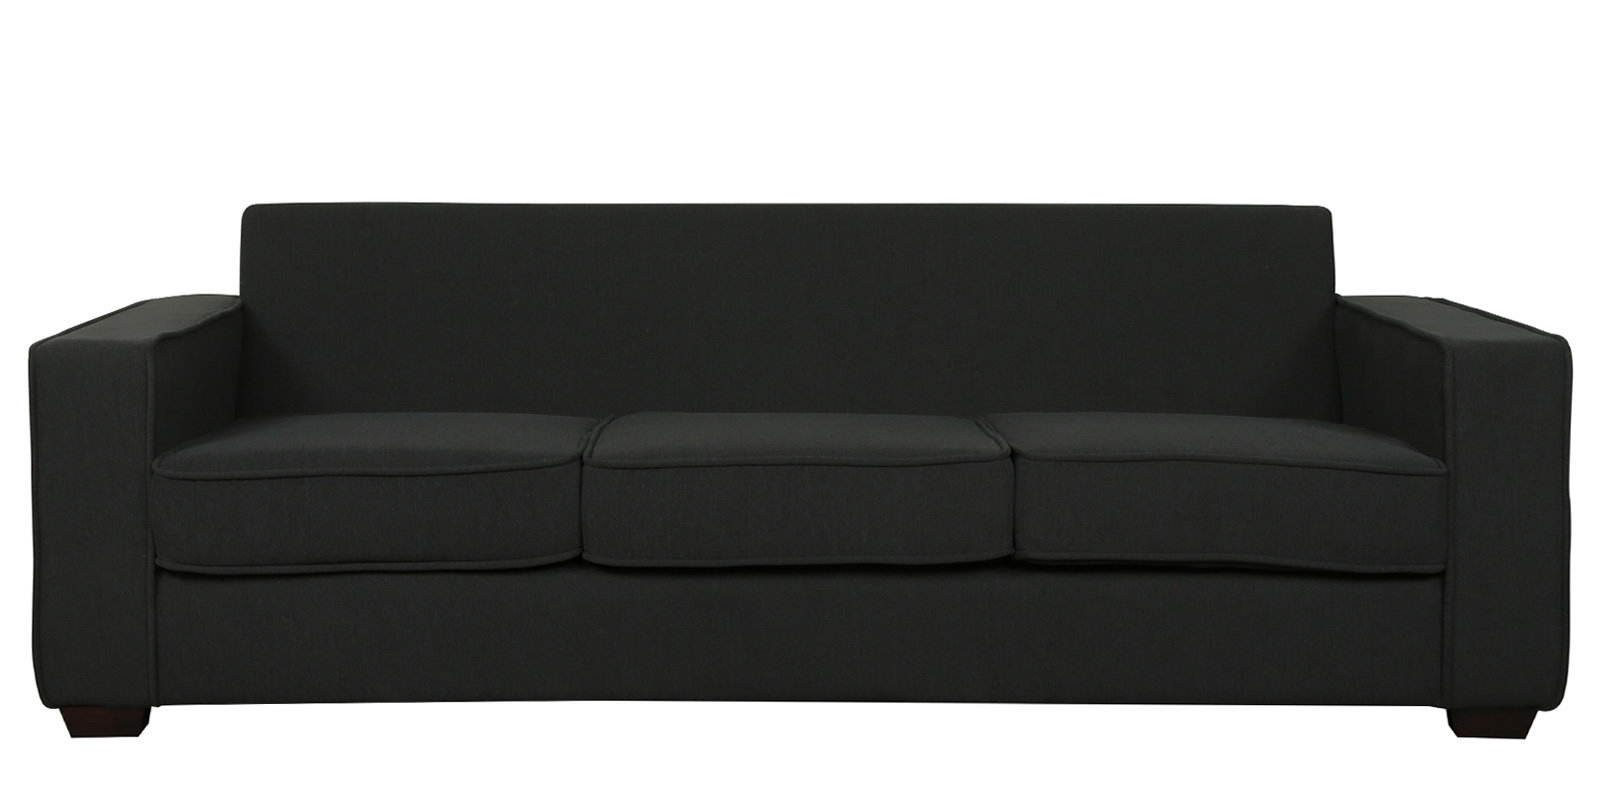Hugo Three Seater Sofa in Charcoal Grey Colour by CasaCraft: (16, 185, 1597, 761)
